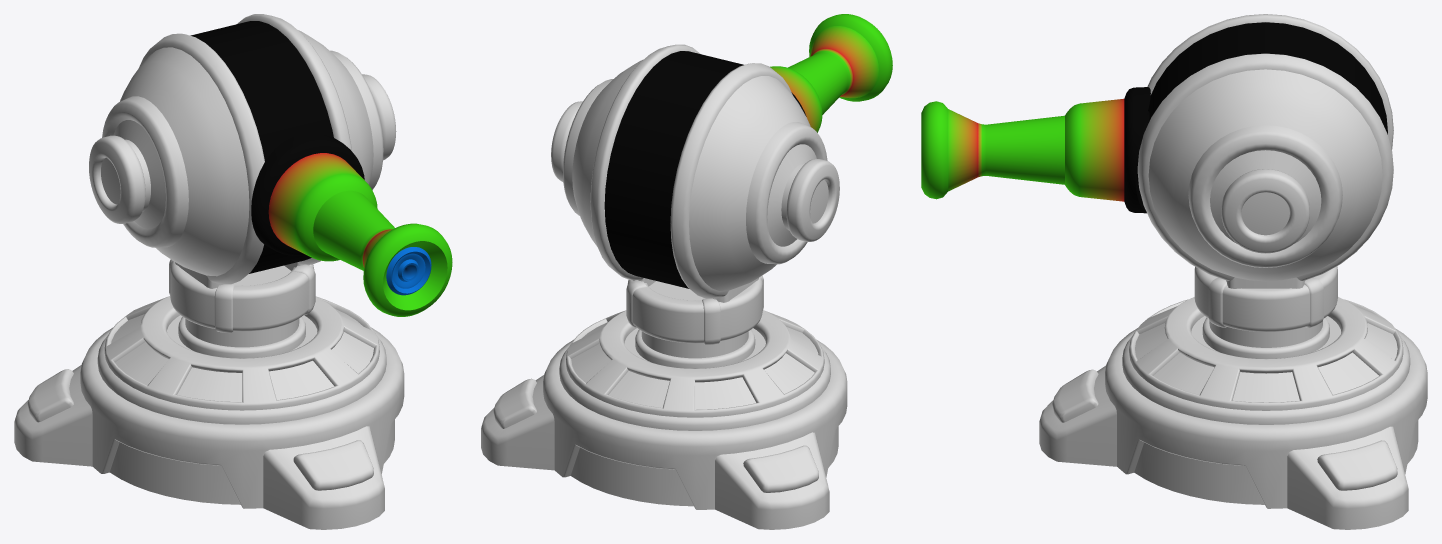
File: ectoCannon.fbx
The picture shows the model from 3 angles, left to right: view 1: azimuth 30°, elevation 25°; view 2: azimuth 150°, elevation 25°; view 3: azimuth 270°, elevation 25°; orthographic projection. The views are drawn at different scales.
Parts seen in each view (by area): view 1: polySurface8, polySurface14, pCylinder9; view 2: polySurface8, polySurface14, pCylinder9; view 3: polySurface14, polySurface8, pCylinder9.
Boxes of the visible parts, x1,y1,x2,y2 form: polySurface8: [14, 296, 404, 529]; polySurface14: [89, 14, 396, 358]; pCylinder9: [190, 21, 452, 316]; polySurface8: [481, 310, 847, 529]; polySurface14: [551, 44, 839, 368]; pCylinder9: [604, 14, 892, 288]; polySurface14: [1137, 14, 1393, 358]; polySurface8: [1039, 297, 1427, 529]; pCylinder9: [921, 22, 1387, 213].
Size of the model in its own units: 2.7 by 2.97 by 3.33.
